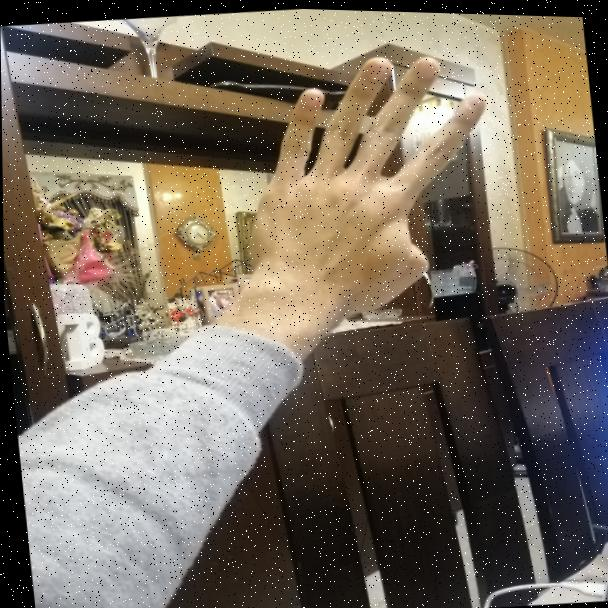four: (225, 38, 516, 332)
